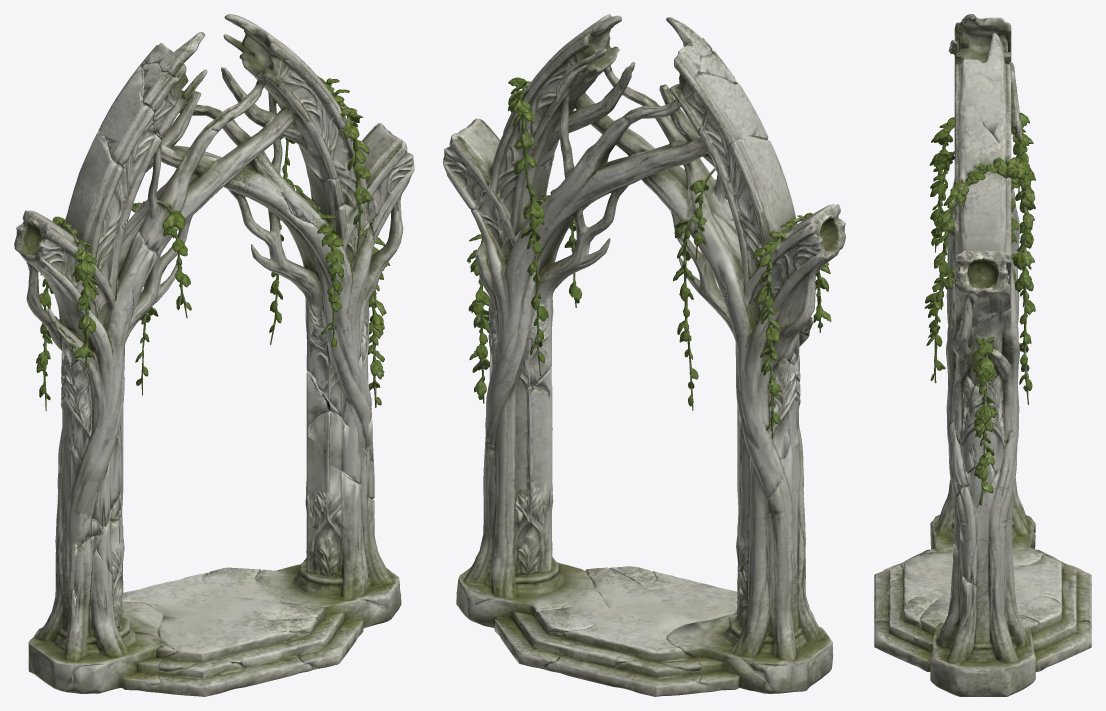
Rendered from court_arch.glb.
3 renders of one model, left to right at view 1: azimuth 30°, elevation 25°; view 2: azimuth 150°, elevation 25°; view 3: azimuth 270°, elevation 25°, orthographic. The views are drawn at different scales.
Visible parts, largest first — view 1: tripo_node_b247e16a-5131-4ada-9616-577e15b27246; view 2: tripo_node_b247e16a-5131-4ada-9616-577e15b27246; view 3: tripo_node_b247e16a-5131-4ada-9616-577e15b27246.
Boxes of the visible parts, bbox=[...] form: tripo_node_b247e16a-5131-4ada-9616-577e15b27246: bbox=[14, 14, 414, 696]; tripo_node_b247e16a-5131-4ada-9616-577e15b27246: bbox=[443, 14, 845, 696]; tripo_node_b247e16a-5131-4ada-9616-577e15b27246: bbox=[874, 14, 1091, 696].
Bounding box in the file's own units: 0.6341 × 0.9787 × 0.3256.
Materials: 1 (1 with a texture image).
